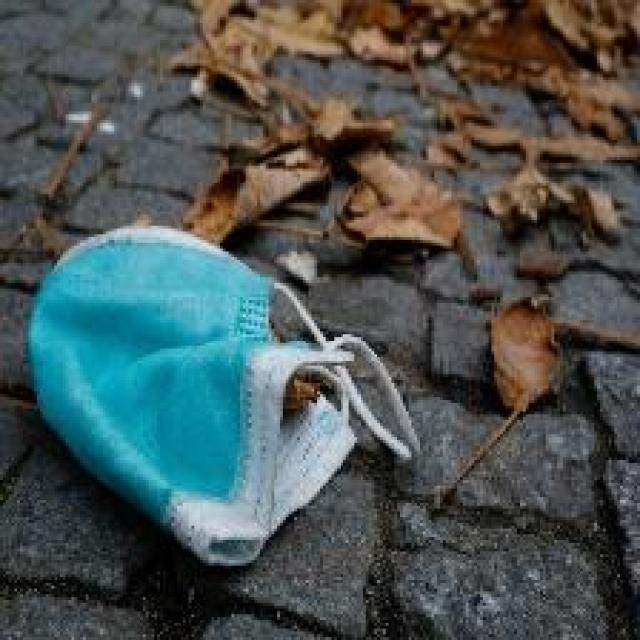Mask: (28, 225, 436, 567)
